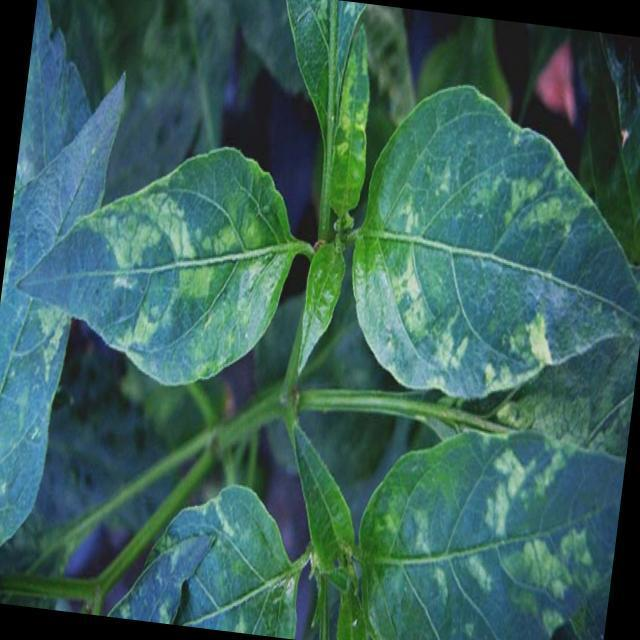Mosaic Virus: (353, 95, 640, 407), (40, 134, 292, 382), (355, 414, 627, 640), (118, 480, 298, 638), (0, 208, 73, 458), (321, 16, 380, 213)
